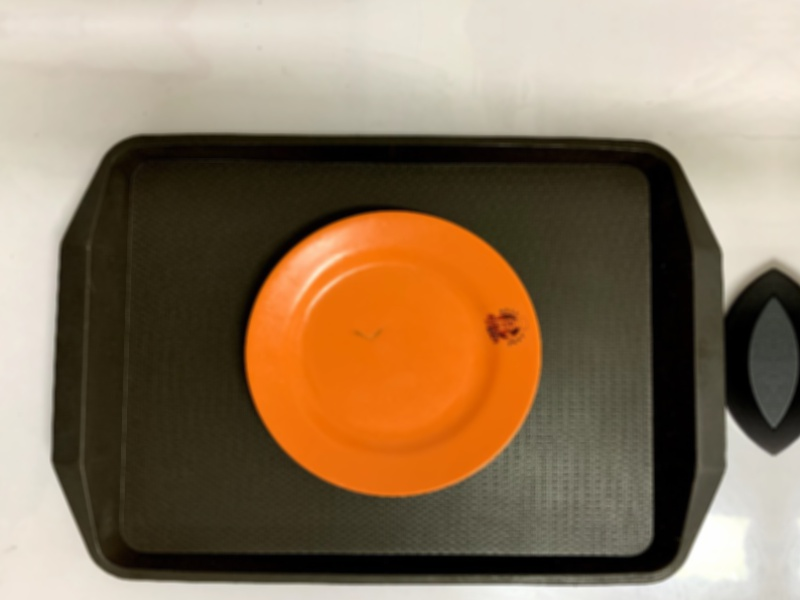dish10: (239, 206, 546, 501)
